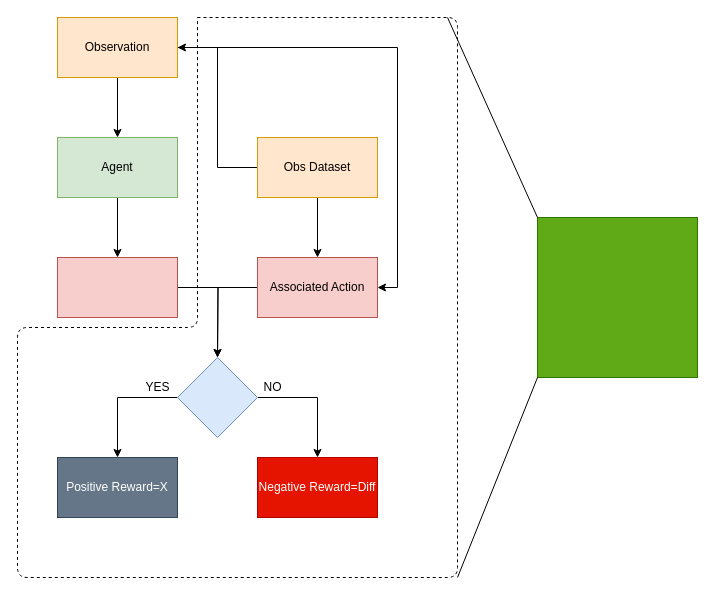
This 715x596 diagram has some shape labels left out. Each missing label, with the centre of its shape:
Action: the point at 117,287
Environment: the point at 617,297
Equal: the point at 217,397
